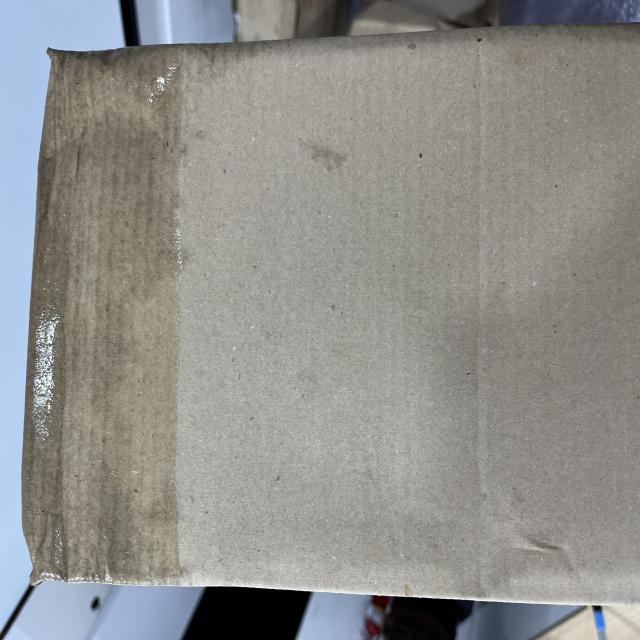wet: (7, 31, 615, 594)
